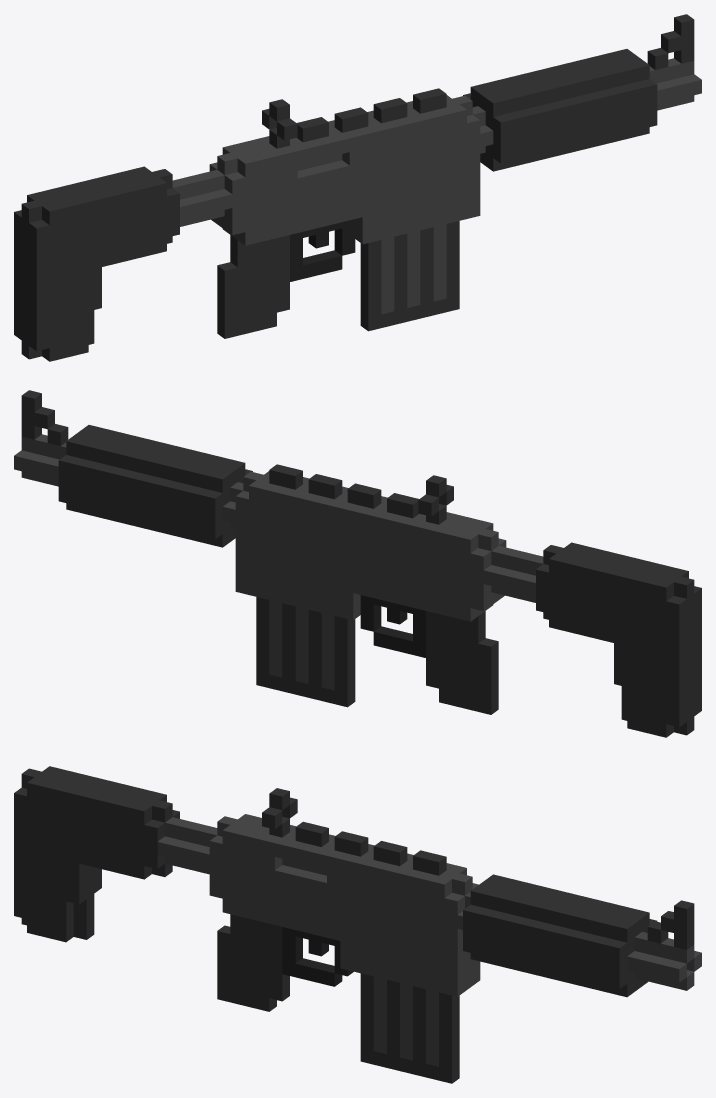
3 views of the same model, one above another, from view 1: azimuth 30°, elevation 25°; view 2: azimuth 150°, elevation 25°; view 3: azimuth 330°, elevation 25° (orthographic).
Size of the model in its own units: 5.1 by 1.8 by 0.5.
Materials: 1 (1 with a texture image).
